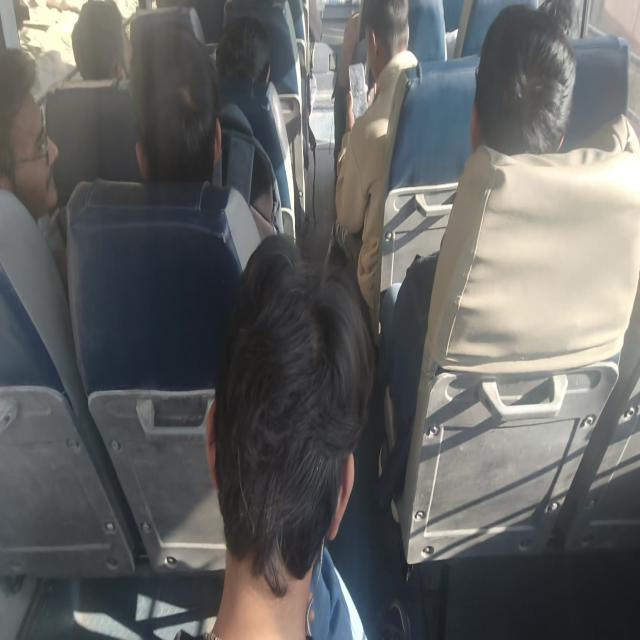person: (189, 234, 373, 495), (87, 17, 219, 188), (472, 42, 572, 163), (0, 69, 55, 221), (61, 0, 135, 97), (222, 19, 288, 115), (366, 8, 426, 104)
